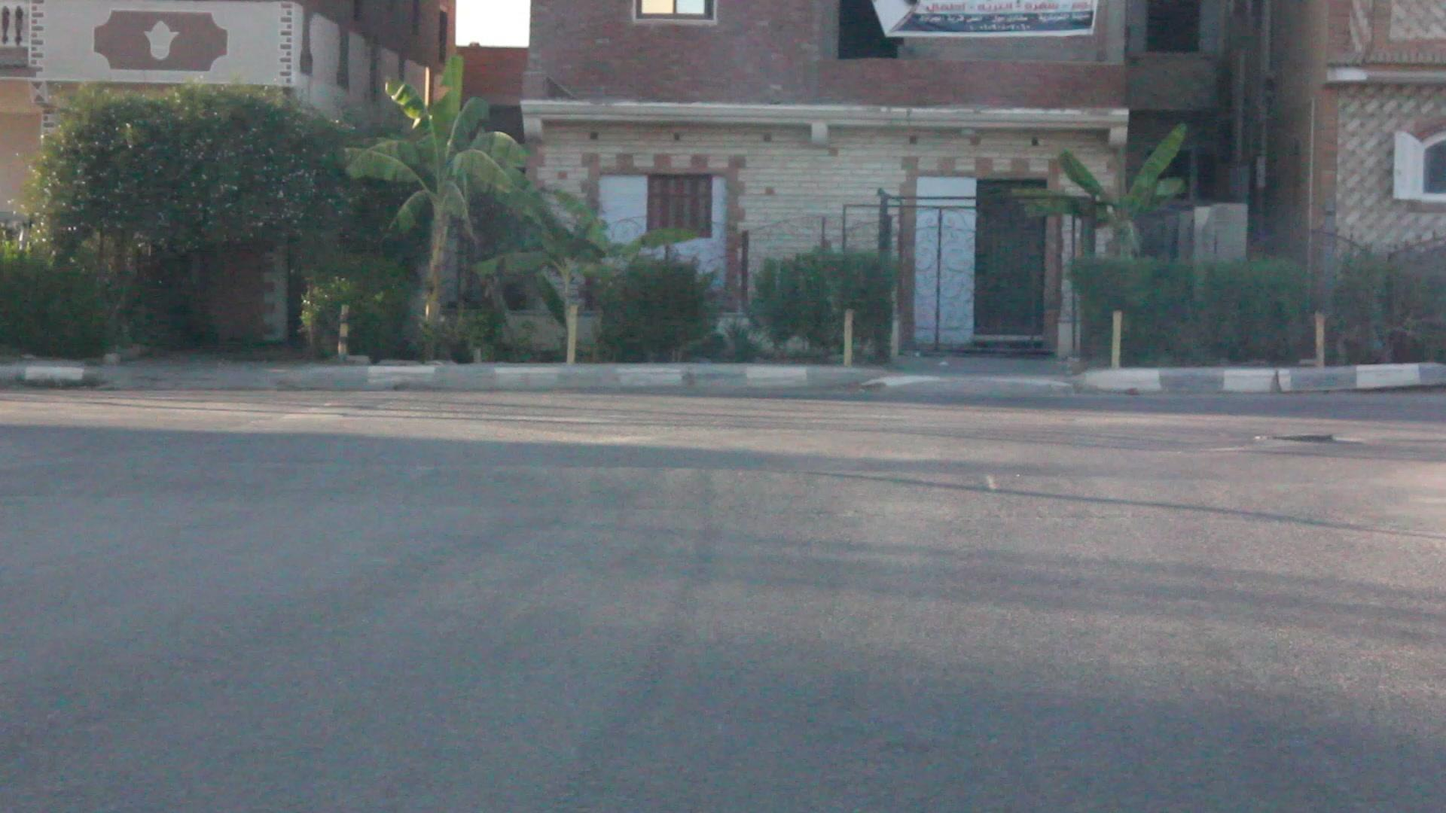Bump: (0, 450, 1445, 532)
